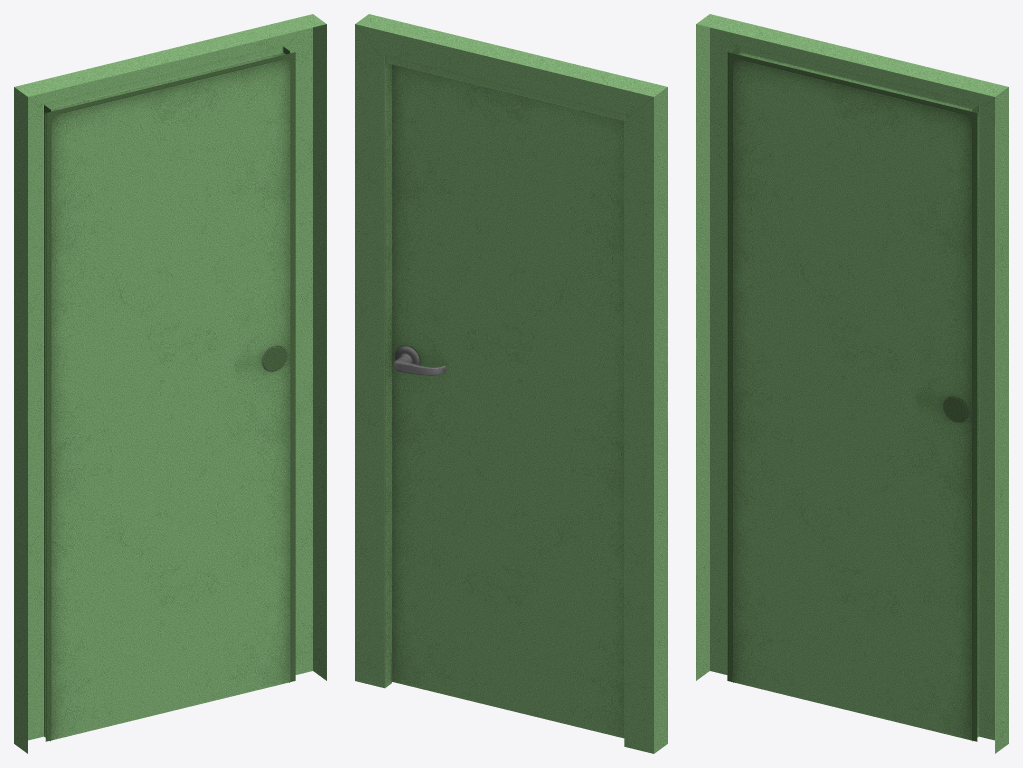
File: door.dae
3 renders of one model, left to right at view 1: azimuth 30°, elevation 25°; view 2: azimuth 150°, elevation 25°; view 3: azimuth 330°, elevation 25°, orthographic.
Visible parts, largest first — view 1: Door_Export; view 2: Door_Export; view 3: Door_Export.
Boxes of the visible parts, box(x1,y1,x2,y2) form: Door_Export: box(14, 14, 326, 753); Door_Export: box(355, 14, 667, 753); Door_Export: box(696, 14, 1008, 753).
Bounding box in the file's own units: 1 × 0.1047 × 2.1.
